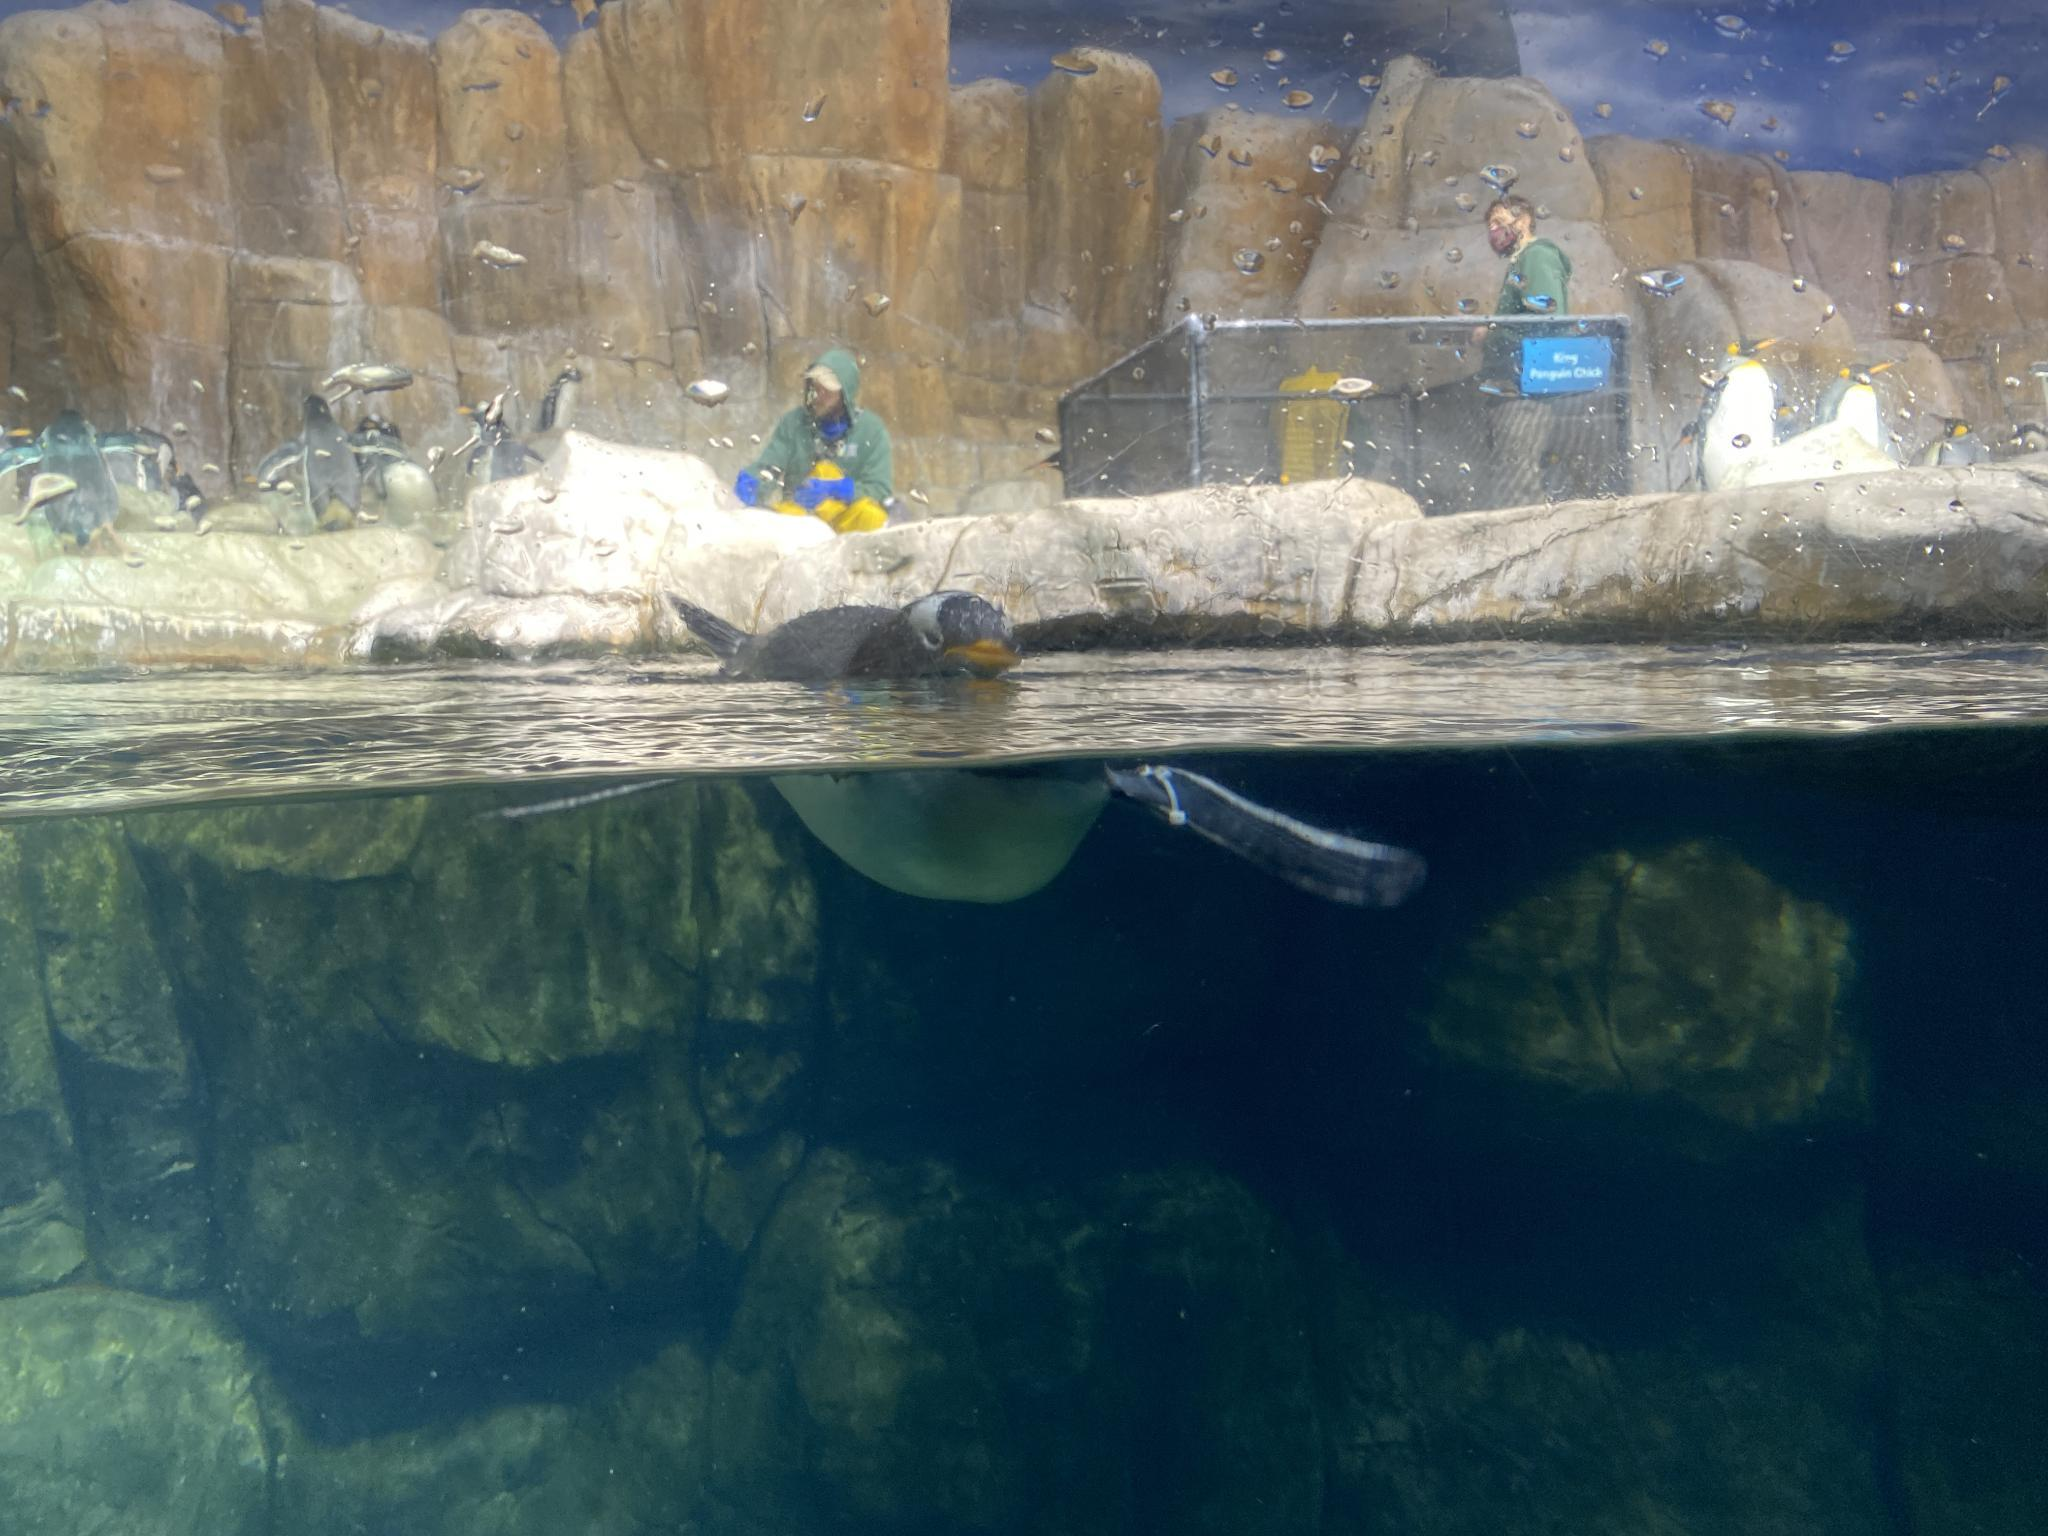penguin: (490, 592, 1435, 928), (0, 405, 169, 563), (250, 386, 410, 541), (1671, 326, 1788, 505), (1819, 352, 1906, 486), (426, 394, 516, 502), (1911, 405, 1995, 482), (526, 361, 589, 453)
